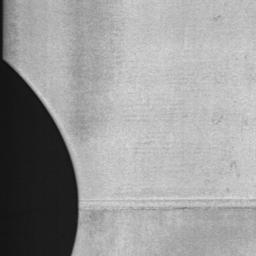Crescent gap: (0, 59, 79, 256)
